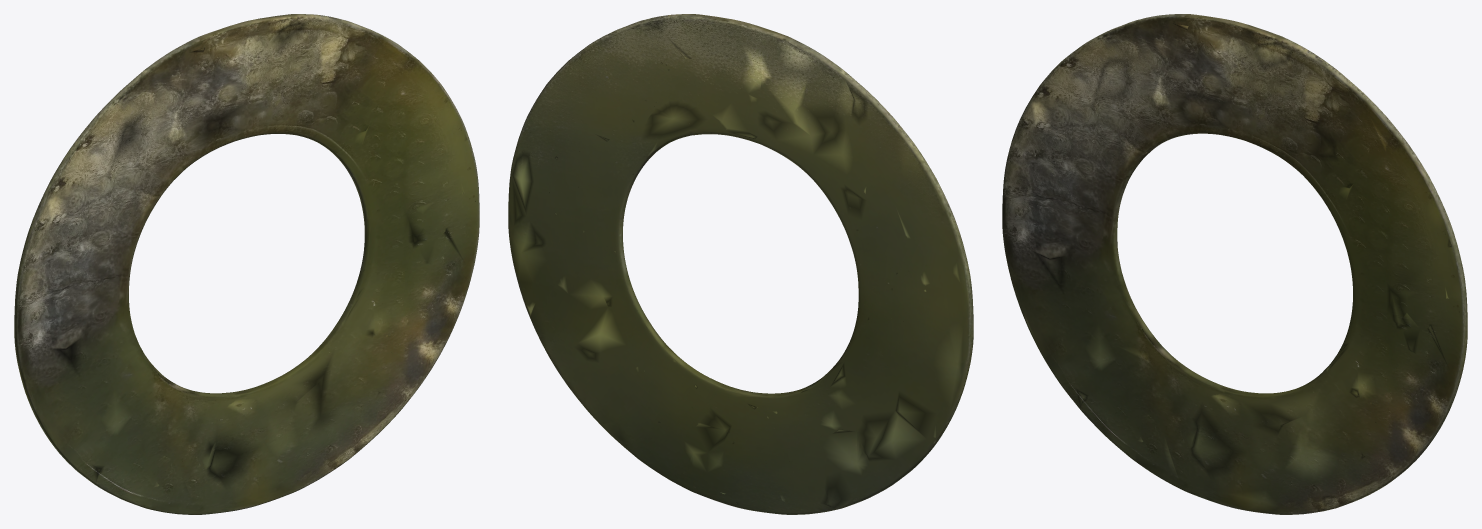
The model's file is grain-bi-detail.glb.
3 views of the same model, side by side, from view 1: azimuth 30°, elevation 25°; view 2: azimuth 150°, elevation 25°; view 3: azimuth 330°, elevation 25° (orthographic).
Parts seen in each view (by area): view 1: node_0; view 2: node_0; view 3: node_0.
Part boxes in pixels (left/top/right/bottom): node_0: left=14, top=14, right=479, bottom=514; node_0: left=508, top=14, right=973, bottom=514; node_0: left=1002, top=14, right=1467, bottom=514.
Size of the model in its own units: 1.19 by 1.19 by 0.0197.
1 material, 1 textured.
